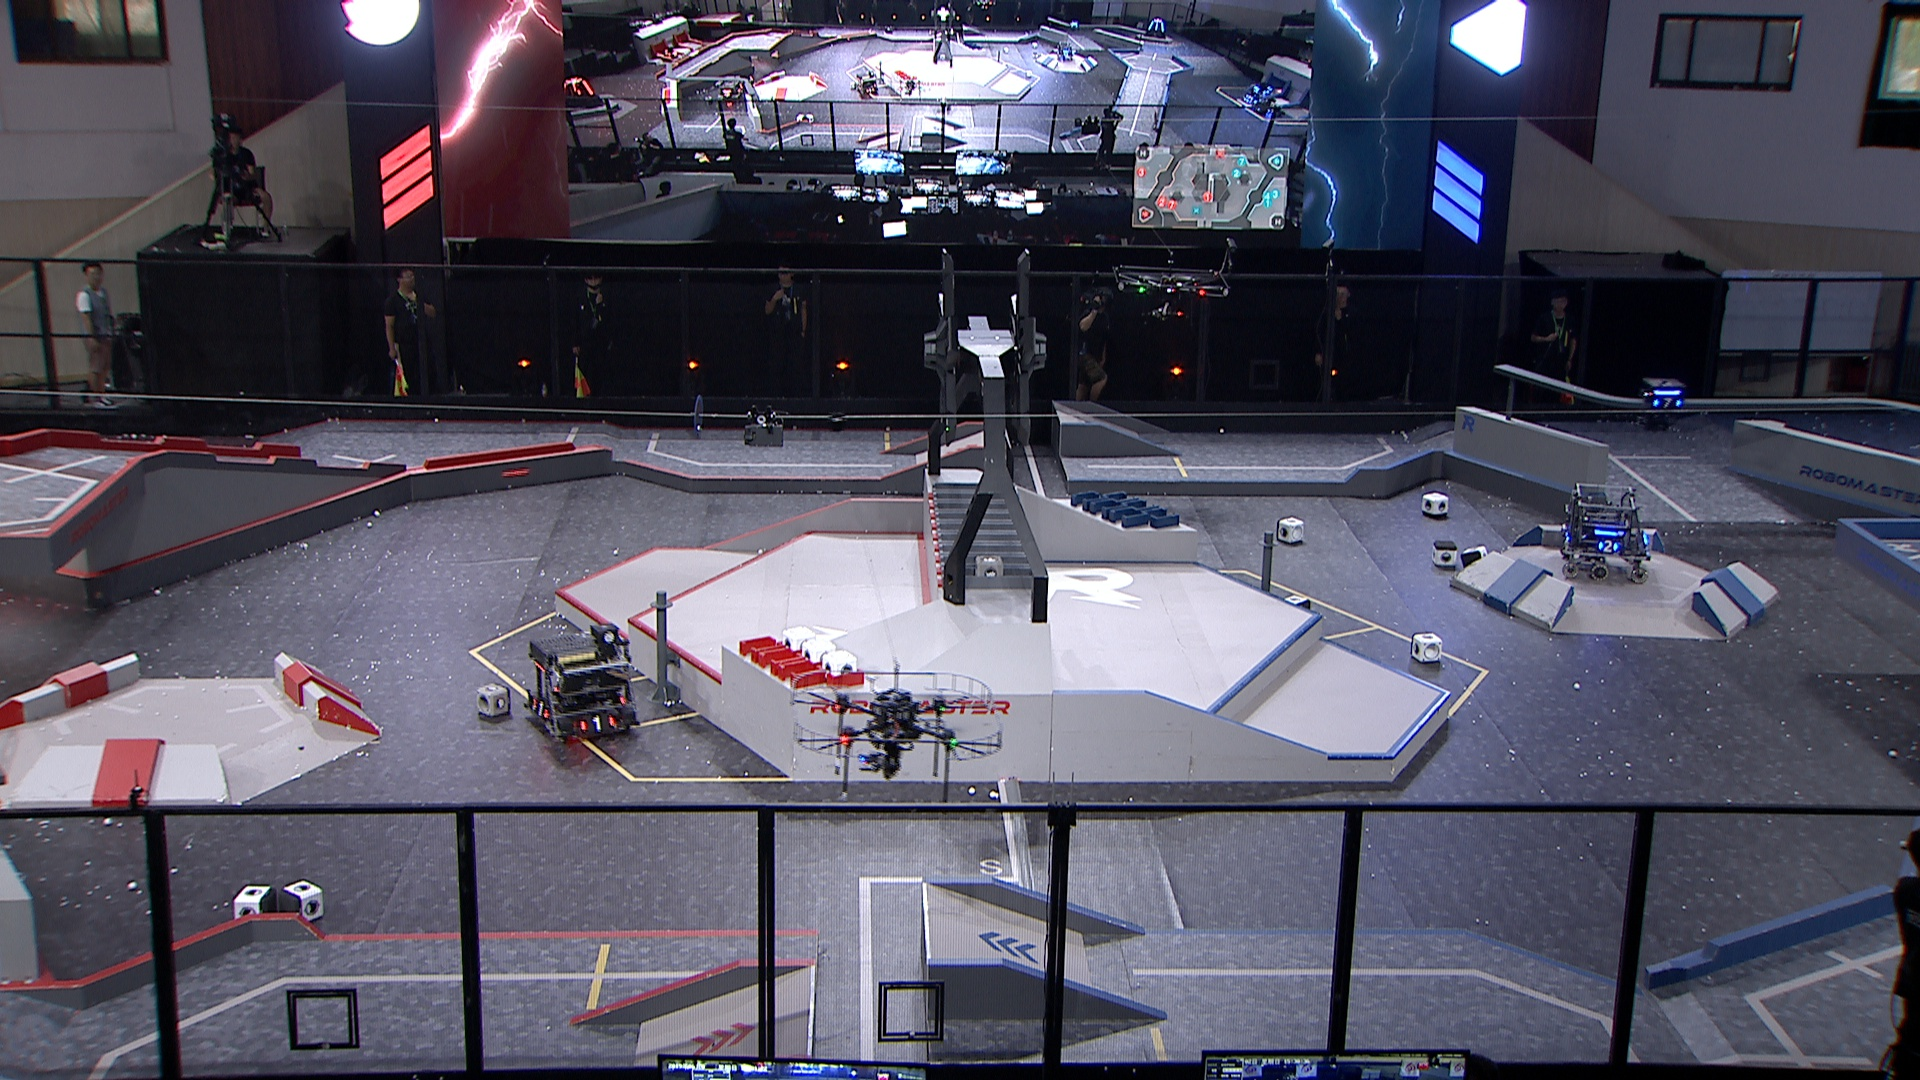armor: (576, 713, 618, 736), (529, 694, 550, 723), (1651, 394, 1684, 411), (1596, 535, 1619, 555)
car: (522, 633, 646, 749), (1555, 479, 1652, 584)
ignore: (560, 74, 597, 111), (716, 74, 749, 109), (1249, 87, 1286, 119), (851, 71, 880, 100), (1141, 15, 1172, 41), (1240, 80, 1262, 104)
watcher: (1636, 378, 1688, 433)
